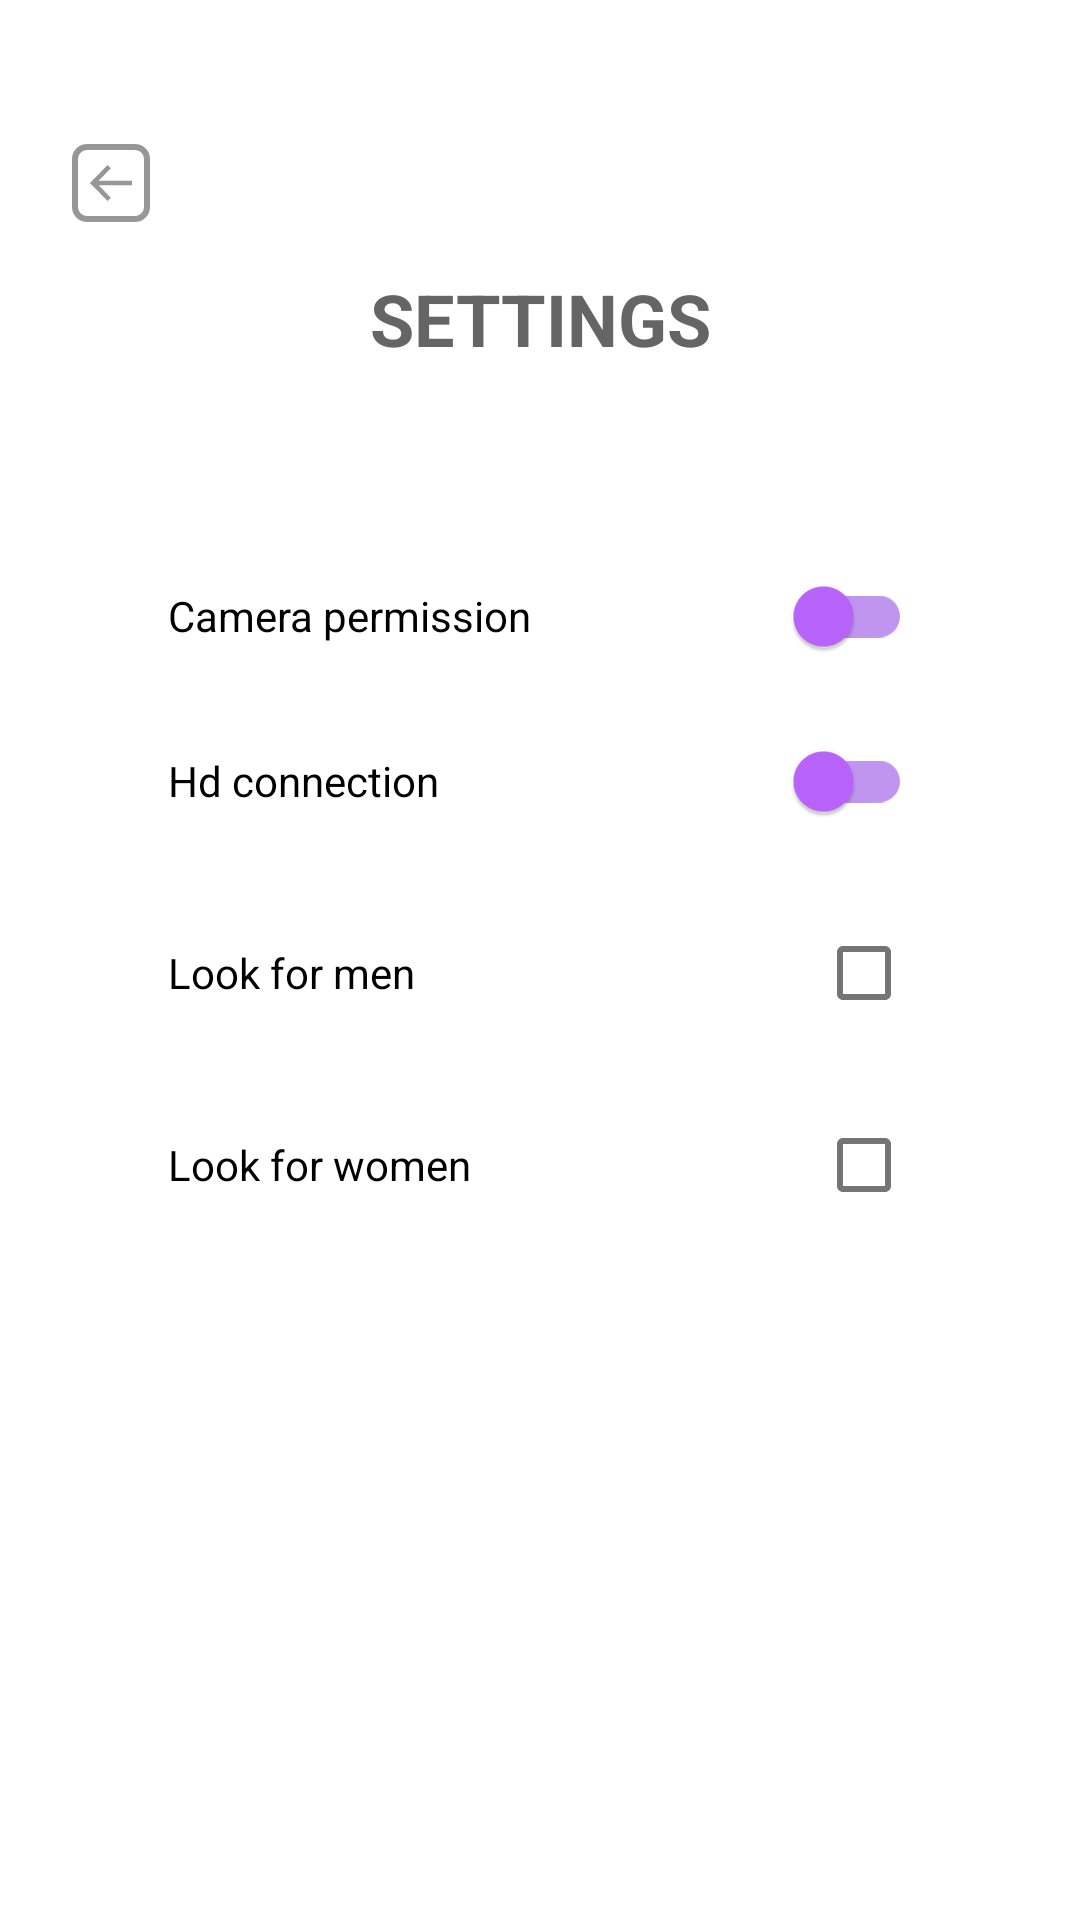

Where to tap for icons on this 1080 x 1920 app screen, as (x=x, y=y):
back: (x=111, y=183)
